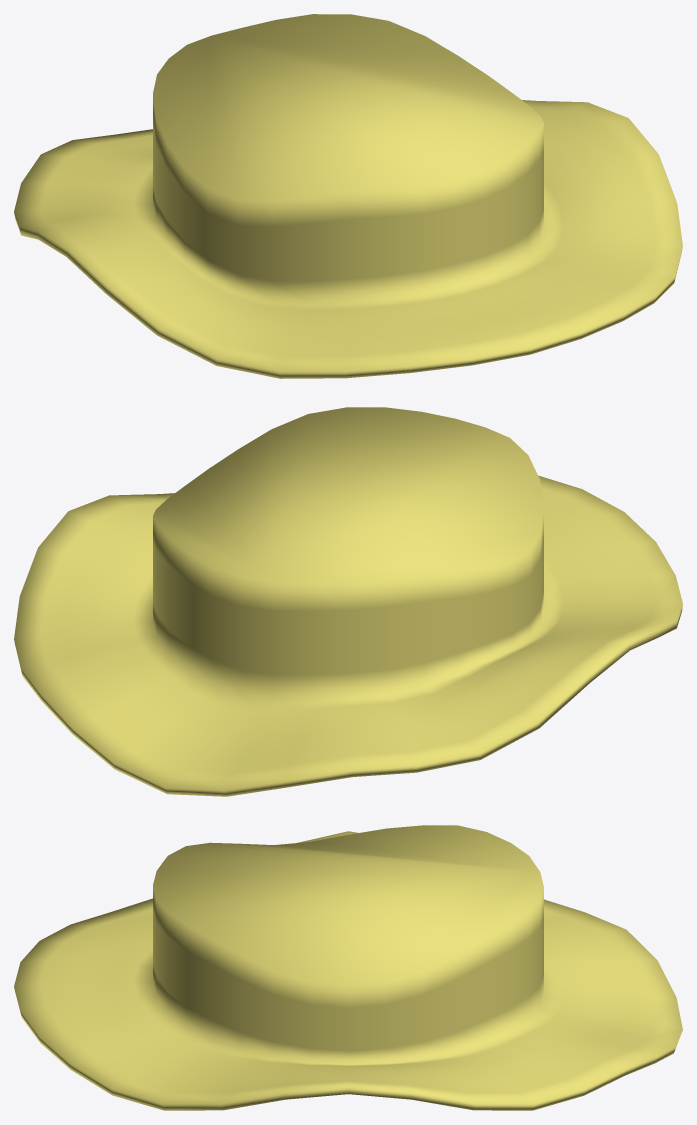
File: Hat.fbx
3 renders of one model, top to bottom at view 1: azimuth 30°, elevation 25°; view 2: azimuth 150°, elevation 25°; view 3: azimuth 270°, elevation 25°, orthographic. The views are drawn at different scales.
Visible parts, largest first — view 1: Hat; view 2: Hat; view 3: Hat.
Part boxes in pixels (x1,y1,x2,y2): Hat: (14,14,682,378); Hat: (14,407,682,796); Hat: (14,825,682,1110).
Bounding box in the file's own units: 30.91 × 8.75 × 34.72.
